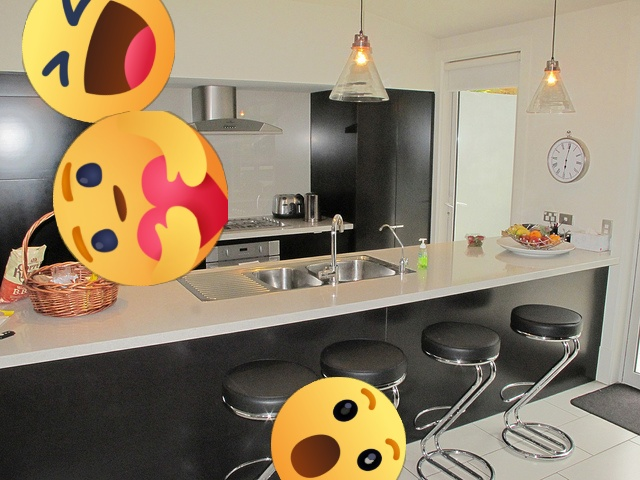care: (53, 111, 228, 286)
haha: (22, 0, 175, 123)
wow: (271, 377, 406, 480)
